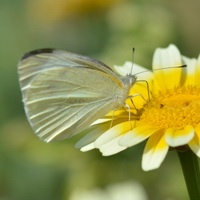insect: (18, 48, 127, 142), (18, 48, 127, 142)
